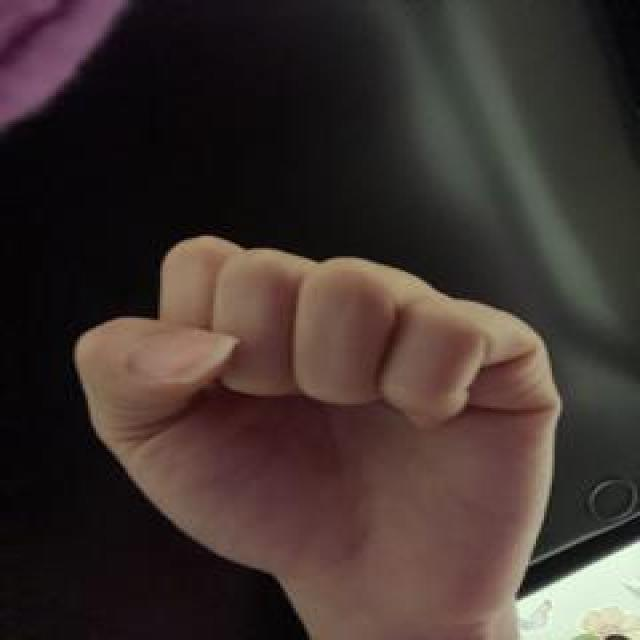S: (64, 229, 573, 621)
